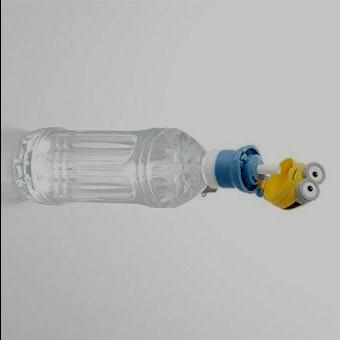bottle: (15, 127, 282, 210)
